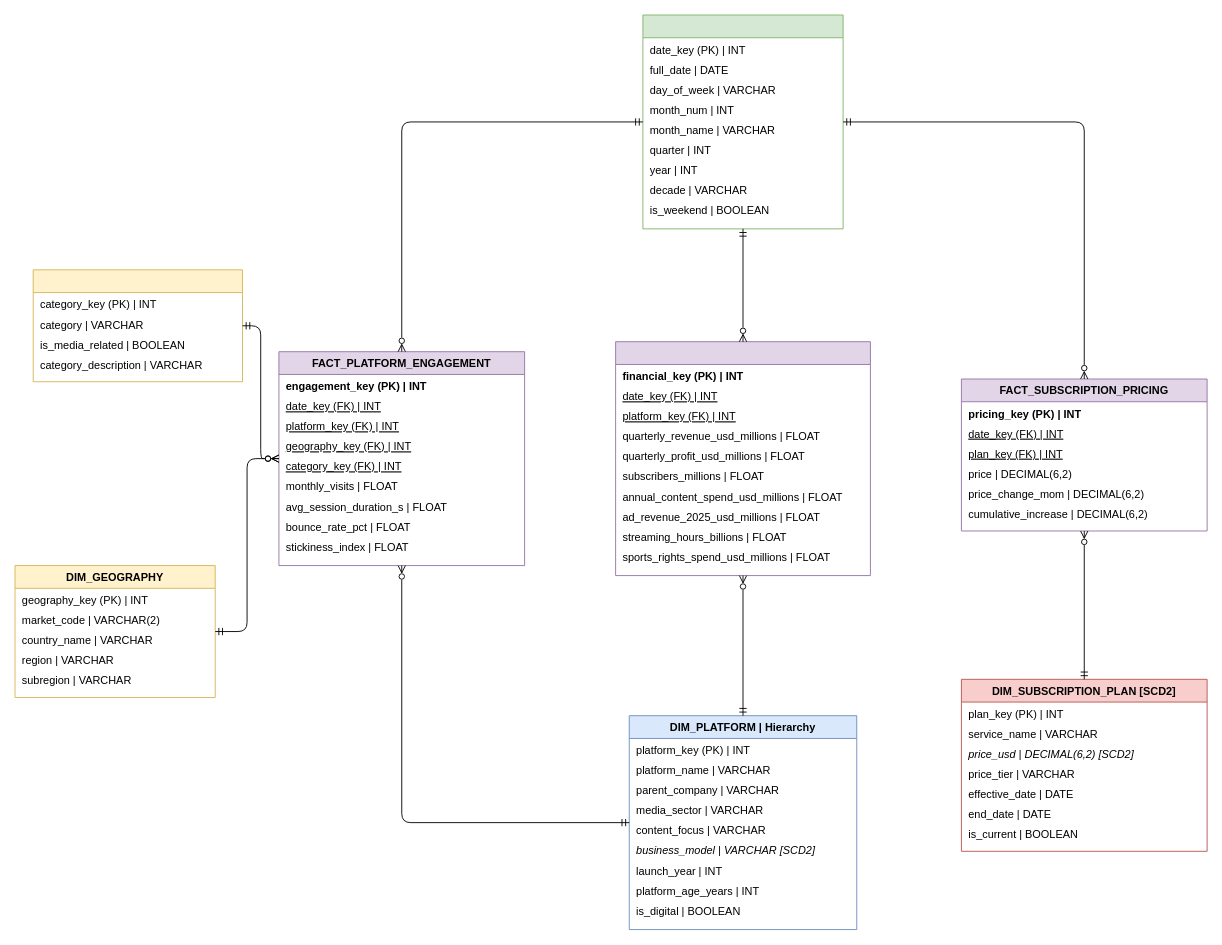
This 1222x945 diagram has some shape labels left out. Each missing label, with the box of its shape:
DIM_CONTENT_CATEGORY: (32, 269, 243, 382)
DIM_DATE: (642, 14, 843, 229)
FACT_PLATFORM_FINANCIALS: (615, 341, 870, 576)
